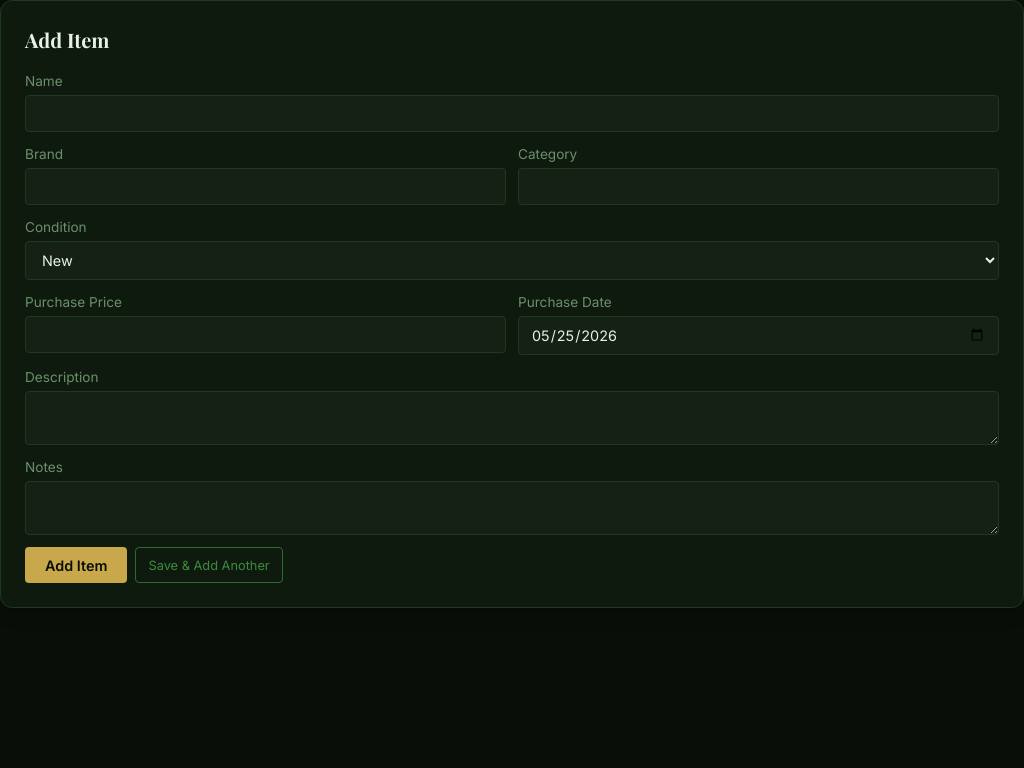
AddItemForm › submit with empty name shows validation error beneath the name input
This screenshot has width=1024, height=768.
Click the button "Add Item" at [76, 565], box [25,547,127,583]
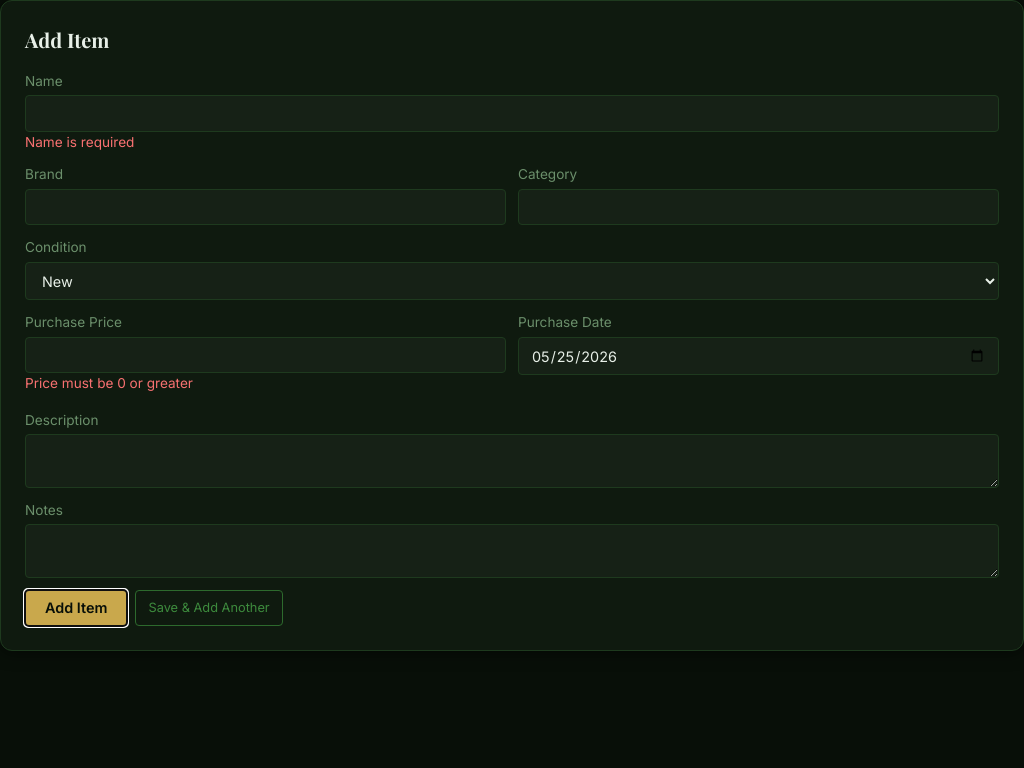
Check: the text with test id "error-name" reads "Name is required", box [25,134,134,150]
